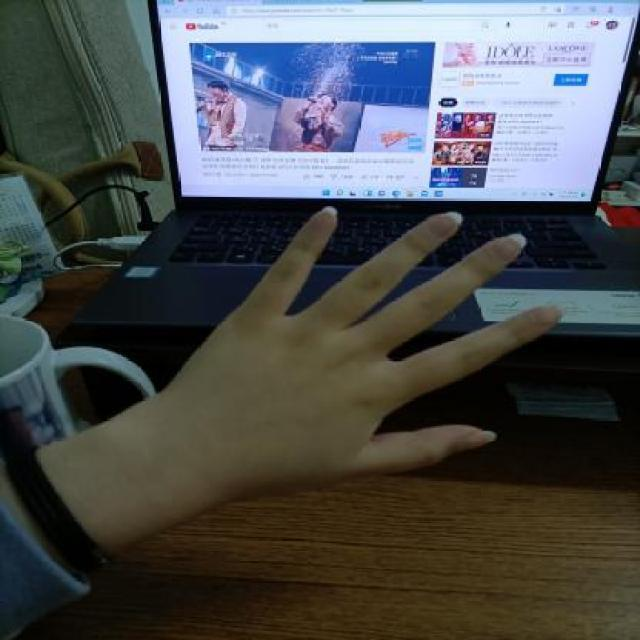bare_hand: (154, 200, 580, 523)
